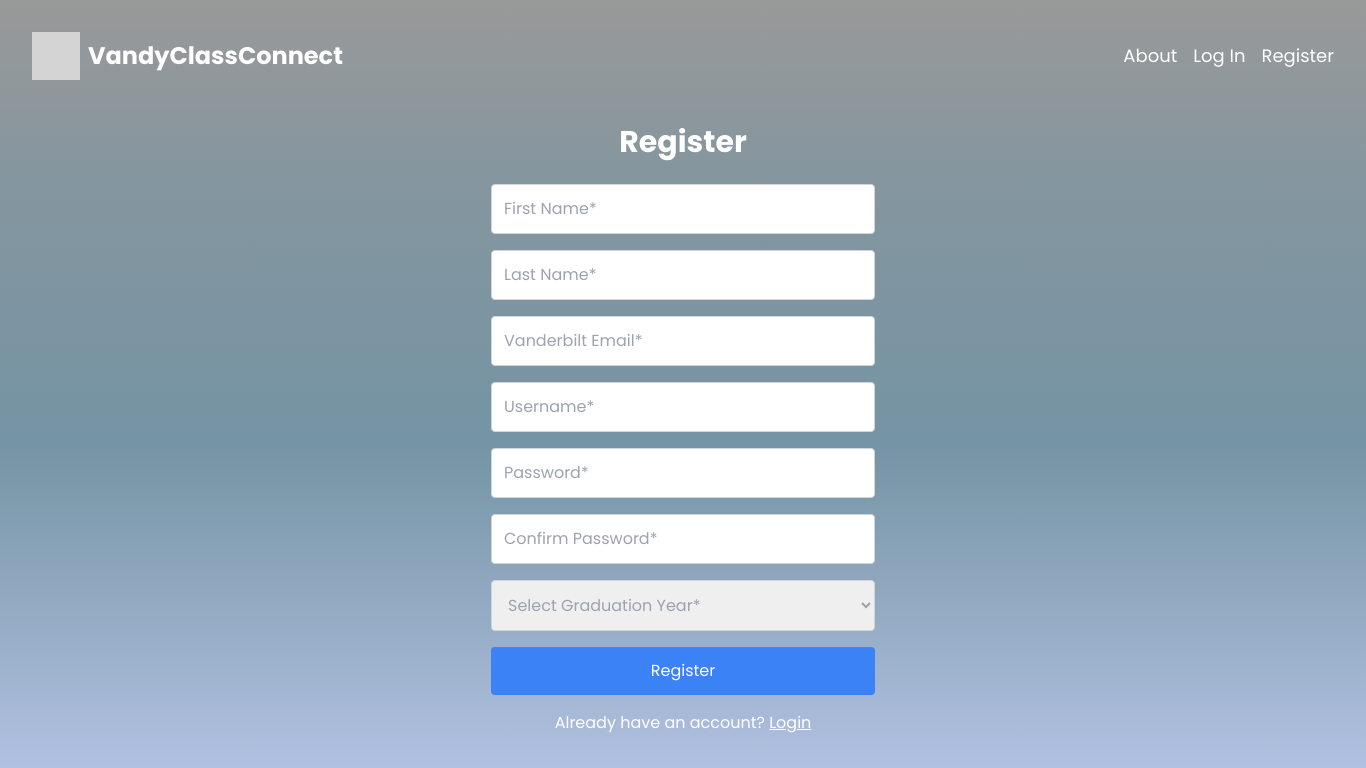
Register Page › should show an error for empty fields
What coordinates should you click on to do the following:
click the submit button
I would click on:
 (683, 671)
Its box is x1=491 y1=647 x2=875 y2=695.
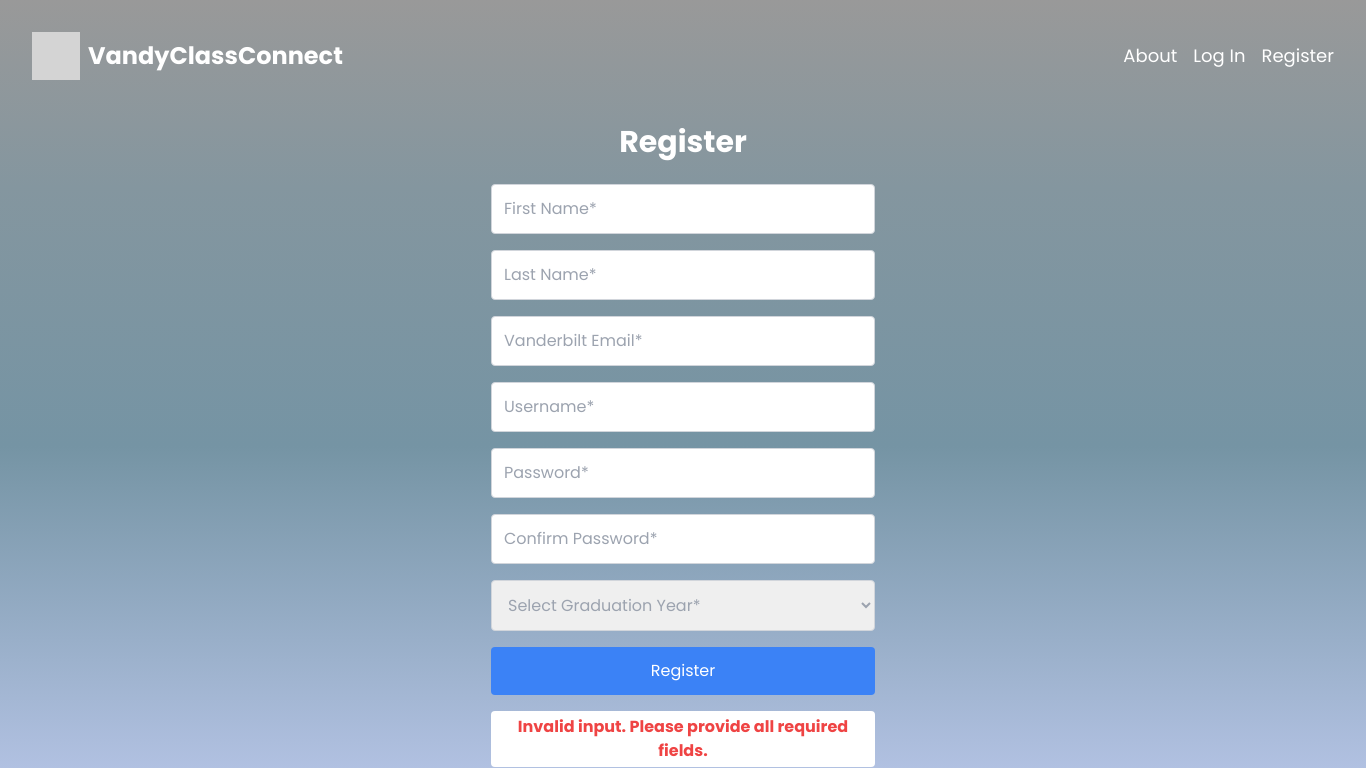
Expected: the text "Invalid input. Please provide all required fields." is shown, x1=491 y1=711 x2=875 y2=767
